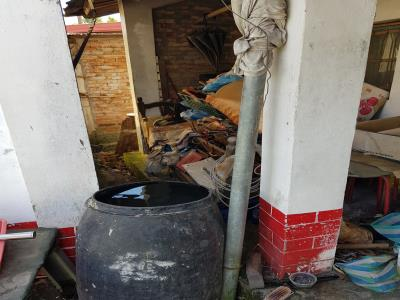bowl: (287, 271, 317, 291)
box: (352, 115, 400, 161)
bucket: (69, 178, 226, 295)
plastic_bag: (345, 252, 400, 295)
